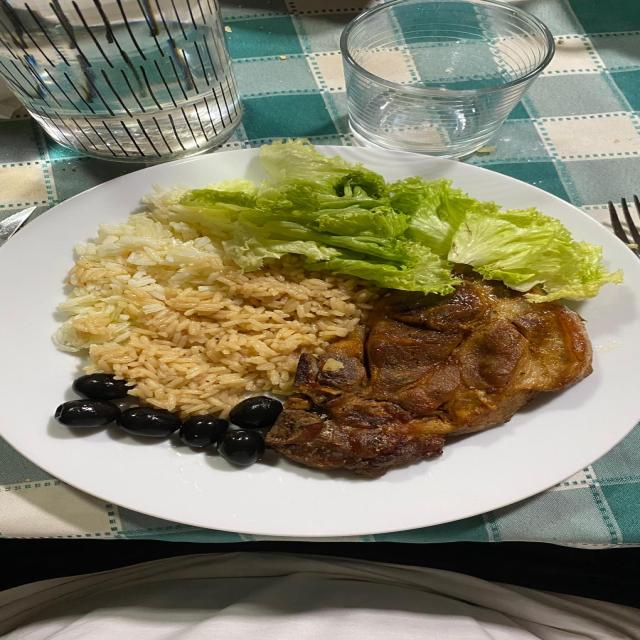grilled chop: (270, 273, 592, 475)
lettuce: (146, 142, 619, 300)
olives: (54, 374, 282, 467)
plate: (0, 145, 639, 537)
rice: (53, 215, 375, 417)
